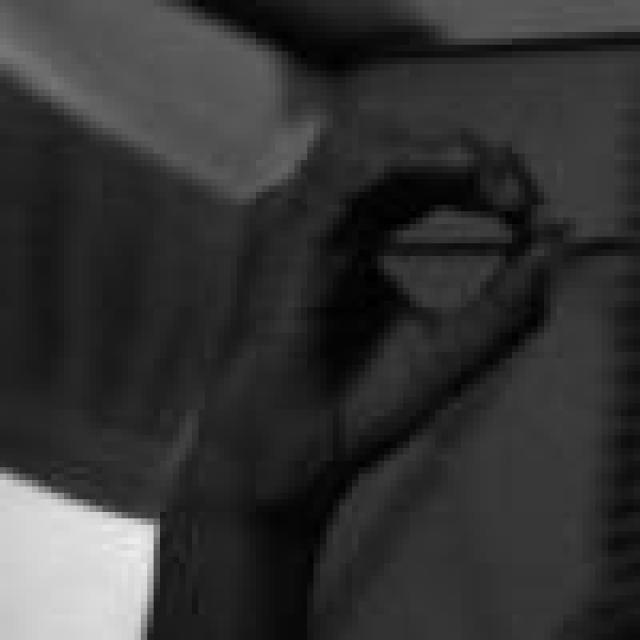O: (205, 109, 576, 499)
